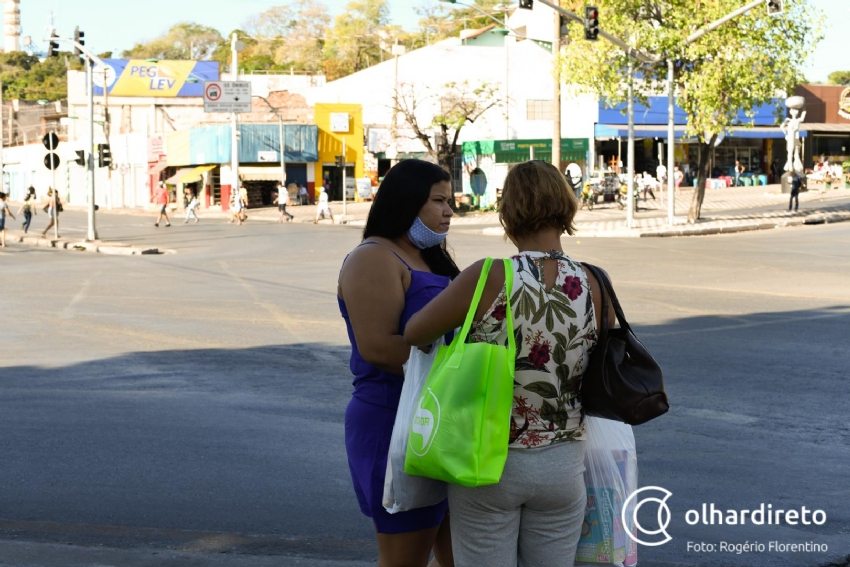mask_weared_incorrect: (403, 173, 458, 252)
